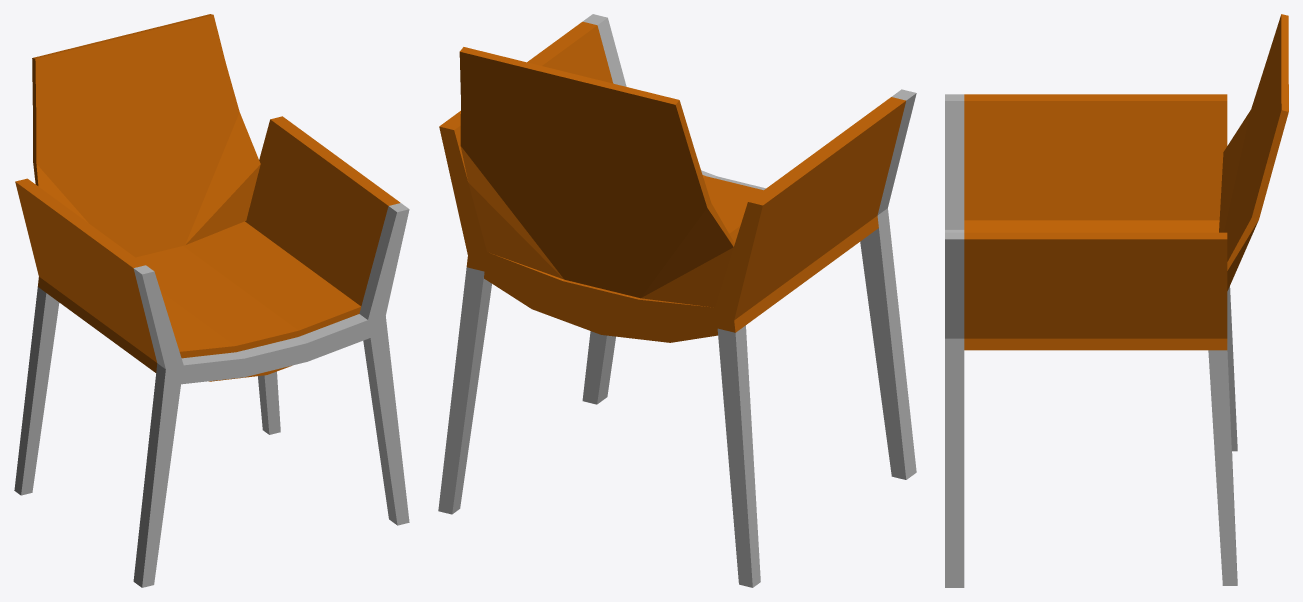
File: chair-by-cmht-oculus-2aXnX7qocj1.glb
3 views of the same model, side by side, from view 1: azimuth 30°, elevation 25°; view 2: azimuth 150°, elevation 25°; view 3: azimuth 270°, elevation 25° (orthographic). The views are drawn at different scales.
Parts seen in each view (by area): view 1: Node; view 2: Node; view 3: Node.
Part boxes in pixels (<box>): Node: <box>14,14,409,587</box>; Node: <box>438,14,916,587</box>; Node: <box>945,14,1288,587</box>.
Size of the model in its own units: 22.5 by 32.8 by 22.53.
